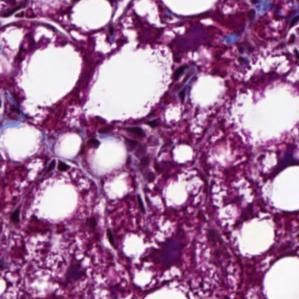inflammation: (93, 118, 154, 154)
